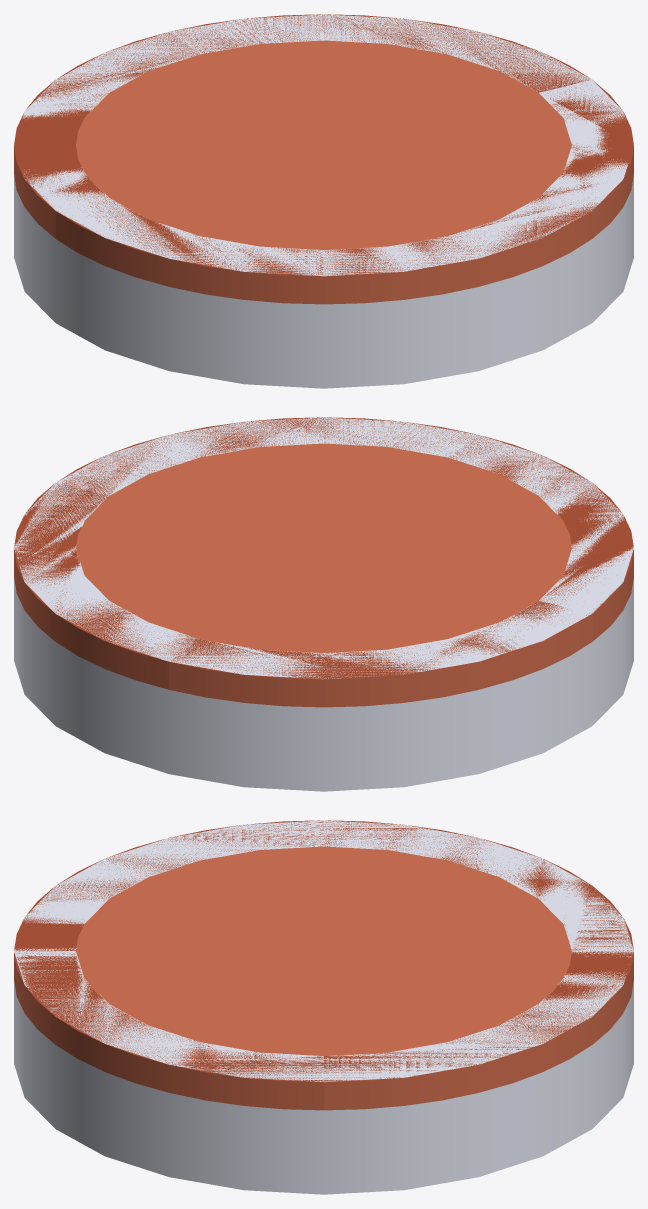
The model's file is demi_box.obj.
The picture shows the model from 3 angles, top to bottom: view 1: azimuth 30°, elevation 25°; view 2: azimuth 150°, elevation 25°; view 3: azimuth 270°, elevation 25°; orthographic projection.
Visible parts, largest first — view 1: mergedBlocks; view 2: mergedBlocks; view 3: mergedBlocks.
Part boxes in pixels (<box>): mergedBlocks: <box>14,14,633,388</box>; mergedBlocks: <box>14,417,633,791</box>; mergedBlocks: <box>14,820,633,1194</box>.
Bounding box in the file's own units: 2 × 0.4 × 2.
